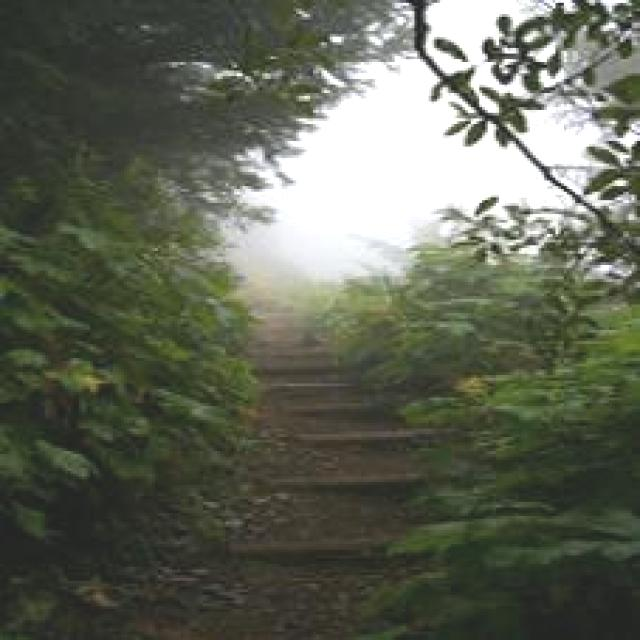stair: (151, 290, 425, 636)
